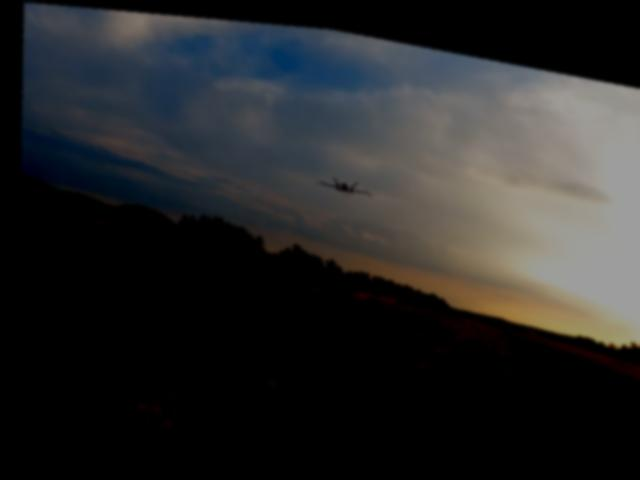plane: (311, 164, 371, 194)
